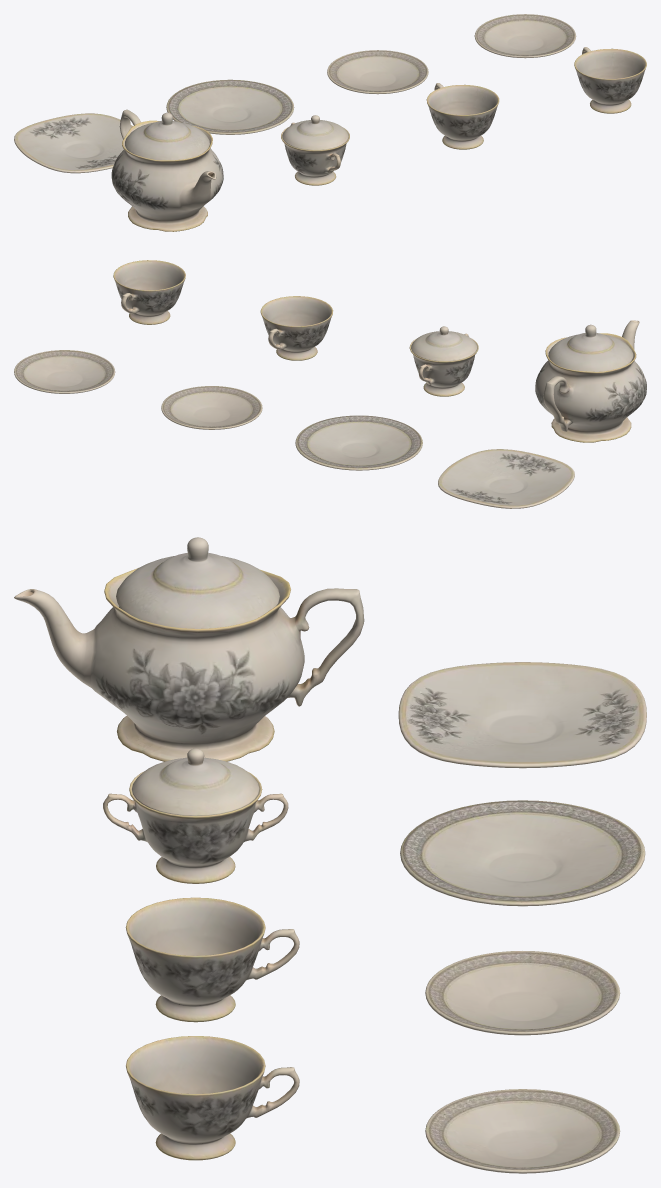
File: tea-set-medium.glb
3 renders of one model, top to bottom at view 1: azimuth 30°, elevation 25°; view 2: azimuth 150°, elevation 25°; view 3: azimuth 270°, elevation 25°, orthographic. The views are drawn at different scales.
Parts seen in each view (by area): view 1: tea_set_01_teapot_01, tea_set_01_plate_large_circular_03, tea_set_01_plate_large_square_01, tea_set_01_cup_small_01, tea_set_01_cup_small_02, tea_set_01_saucer_circular_03, tea_set_01_saucer_circular_04, tea_set_01_teapot_01_lid, tea_set_01_sugar_cup_01, tea_set_01_sugar_cup_01_lid; view 2: tea_set_01_teapot_01, tea_set_01_plate_large_square_01, tea_set_01_plate_large_circular_03, tea_set_01_cup_small_01, tea_set_01_cup_small_02, tea_set_01_saucer_circular_04, tea_set_01_saucer_circular_03, tea_set_01_teapot_01_lid, tea_set_01_sugar_cup_01, tea_set_01_sugar_cup_01_lid; view 3: tea_set_01_teapot_01, tea_set_01_plate_large_square_01, tea_set_01_plate_large_circular_03, tea_set_01_cup_small_01, tea_set_01_cup_small_02, tea_set_01_saucer_circular_03, tea_set_01_saucer_circular_04, tea_set_01_teapot_01_lid, tea_set_01_sugar_cup_01, tea_set_01_sugar_cup_01_lid.
Part boxes in pixels (x1=…): tea_set_01_teapot_01: x1=111, y1=109, x2=223, y2=231; tea_set_01_plate_large_circular_03: x1=166, y1=79, x2=294, y2=134; tea_set_01_plate_large_square_01: x1=14, y1=113, x2=133, y2=173; tea_set_01_cup_small_01: x1=426, y1=83, x2=499, y2=149; tea_set_01_cup_small_02: x1=574, y1=47, x2=646, y2=113; tea_set_01_saucer_circular_03: x1=474, y1=14, x2=576, y2=58; tea_set_01_saucer_circular_04: x1=327, y1=50, x2=428, y2=94; tea_set_01_teapot_01_lid: x1=125, y1=112, x2=209, y2=160; tea_set_01_sugar_cup_01: x1=281, y1=122, x2=349, y2=185; tea_set_01_sugar_cup_01_lid: x1=282, y1=115, x2=348, y2=150; tea_set_01_teapot_01: x1=535, y1=320, x2=646, y2=442; tea_set_01_plate_large_square_01: x1=438, y1=449, x2=574, y2=508; tea_set_01_plate_large_circular_03: x1=295, y1=415, x2=422, y2=470; tea_set_01_cup_small_01: x1=260, y1=296, x2=333, y2=360; tea_set_01_cup_small_02: x1=113, y1=260, x2=185, y2=324; tea_set_01_saucer_circular_04: x1=161, y1=386, x2=262, y2=429; tea_set_01_saucer_circular_03: x1=14, y1=350, x2=115, y2=393; tea_set_01_teapot_01_lid: x1=548, y1=324, x2=633, y2=371; tea_set_01_sugar_cup_01: x1=409, y1=333, x2=478, y2=396; tea_set_01_sugar_cup_01_lid: x1=411, y1=326, x2=477, y2=361; tea_set_01_teapot_01: x1=14, y1=568, x2=364, y2=761; tea_set_01_plate_large_square_01: x1=398, y1=662, x2=646, y2=768; tea_set_01_plate_large_circular_03: x1=400, y1=800, x2=645, y2=906; tea_set_01_cup_small_01: x1=125, y1=897, x2=299, y2=1022; tea_set_01_cup_small_02: x1=126, y1=1036, x2=299, y2=1160; tea_set_01_saucer_circular_03: x1=425, y1=1089, x2=620, y2=1173; tea_set_01_saucer_circular_04: x1=425, y1=951, x2=620, y2=1035; tea_set_01_teapot_01_lid: x1=116, y1=537, x2=279, y2=628; tea_set_01_sugar_cup_01: x1=103, y1=771, x2=288, y2=883; tea_set_01_sugar_cup_01_lid: x1=131, y1=748, x2=259, y2=815.
Bounding box in the file's own units: 0.9185 × 0.165 × 0.4839.
1 material, 1 textured.
